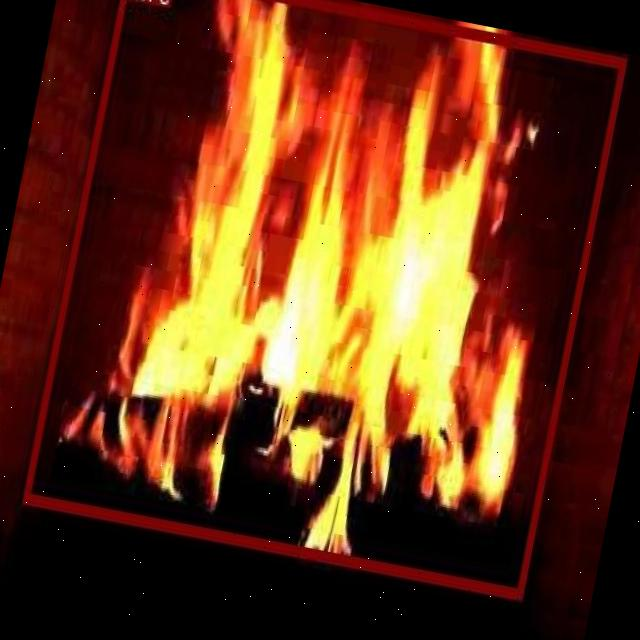fire: (22, 0, 627, 598)
